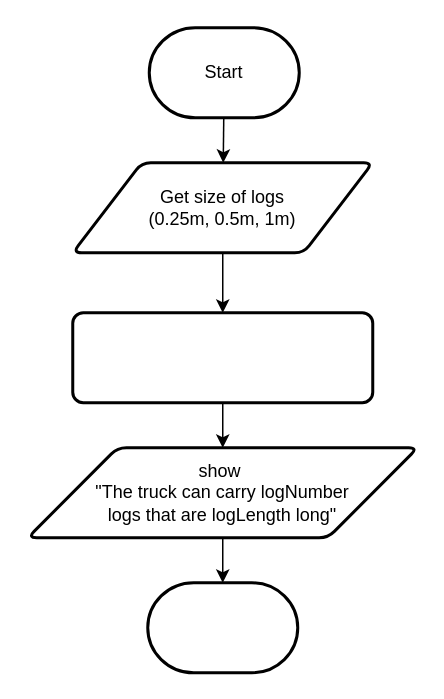
The diagram is 444 pixels wide and 699 high, and some of its shapes have lost their labels. Each missing label, with the centre of its shape:
logNumber = 1100 / (20 * logLength): the point at 222,357
Stop: the point at 222,627
